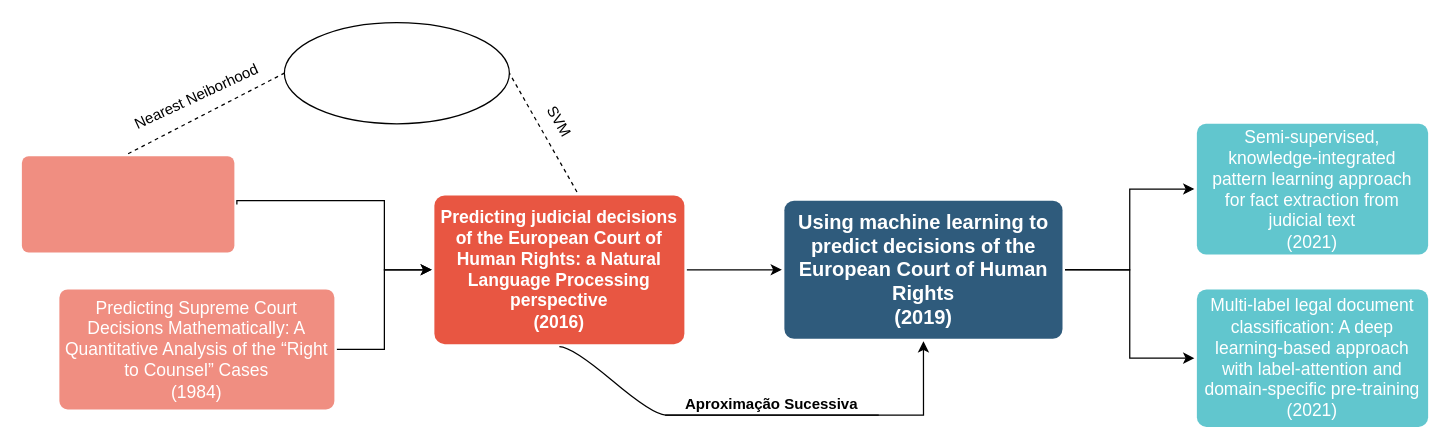
The diagram is 1449 pixels wide and 448 high, and some of its shapes have lost their labels. Here are the shapes that lost their labels. From the top down, the centre of each, then its label:
At point (396, 72): "Reducionismo : Utilização de Métodos Lineares nas análises jurídicas".
At point (127, 204): "Mathematical models for legal prediction (1980)".
